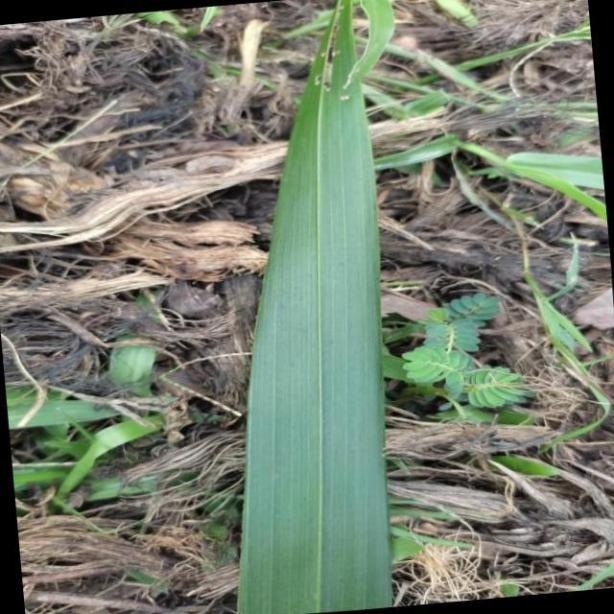Boron: (238, 0, 393, 614)
